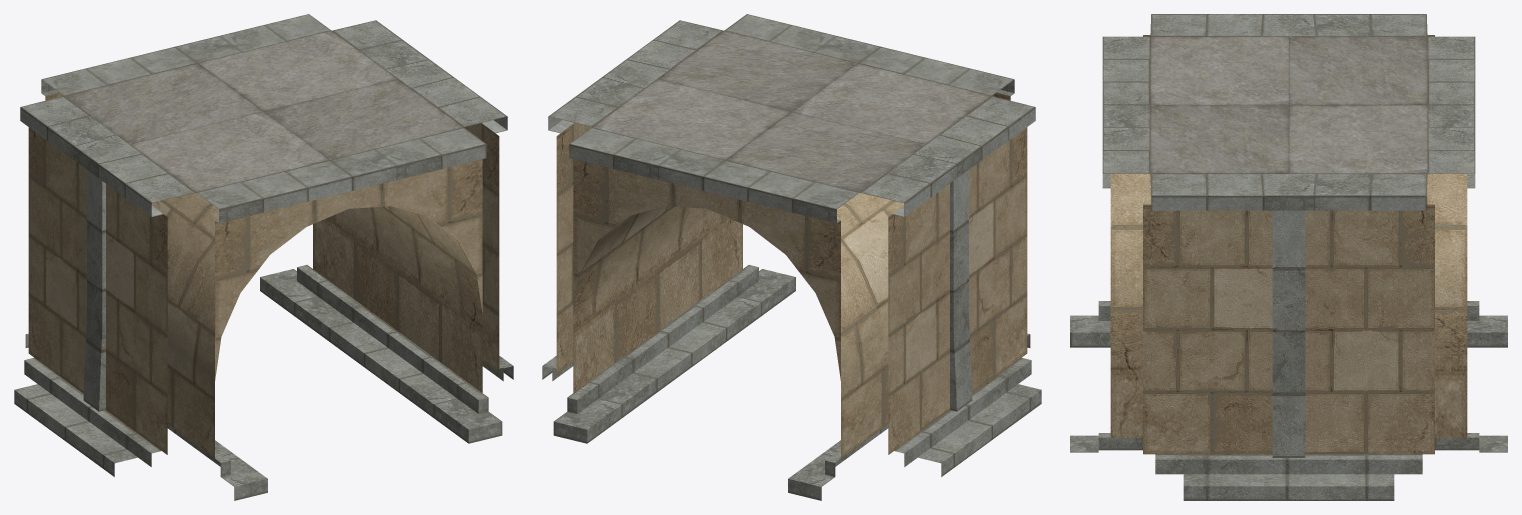
Rendered from arch_end_4x4.fbx.
3 views of the same model, side by side, from view 1: azimuth 30°, elevation 25°; view 2: azimuth 150°, elevation 25°; view 3: azimuth 270°, elevation 25° (orthographic). The views are drawn at different scales.
Visible parts, largest first — view 1: arch_end_4x4; view 2: arch_end_4x4; view 3: arch_end_4x4.
Part boxes in pixels (<box>): arch_end_4x4: <box>14,14,513,500</box>; arch_end_4x4: <box>542,14,1041,500</box>; arch_end_4x4: <box>1070,14,1507,500</box>.
Bounding box in the file's own units: 298 × 200 × 270.
